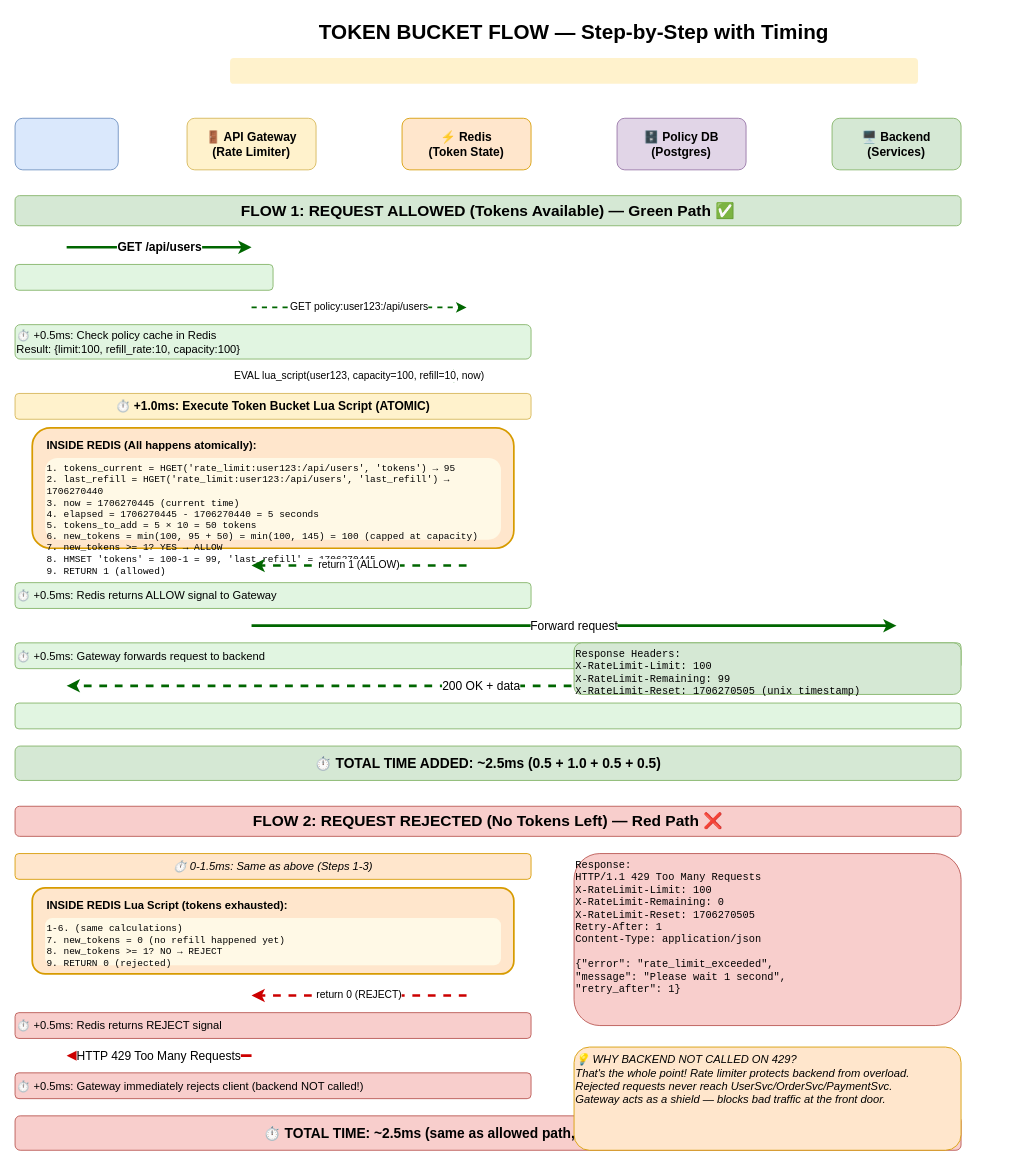
Some shapes in this 1019 by 1165 pixel diagram are drawn without their labels. The centre of each missing label's shape, as x and y in pixels:
⏱️ +20ms: Backend processes, returns data to client with rate limit headers: the point at 487,715
⏱️ 0ms: Client sends request: the point at 143,277
🎯 Shows ALLOWED path (tokens available) and REJECTED path (no tokens left): the point at 574,70
👤 Client (Mobile App): the point at 66,143
